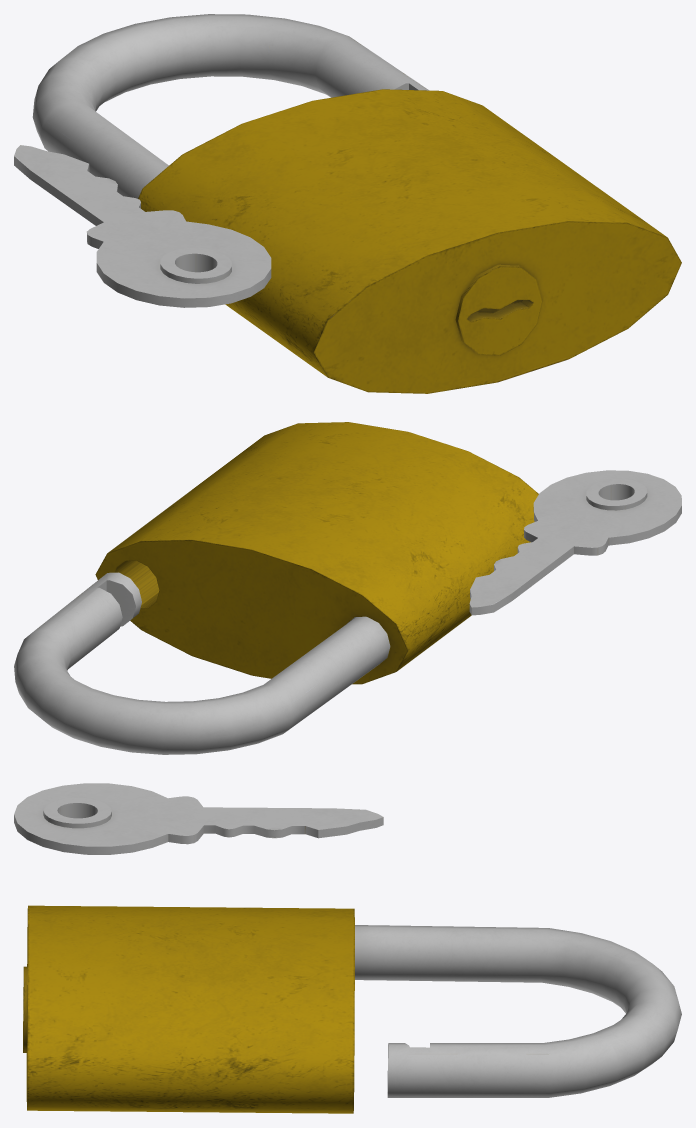
The model's file is GenericProp-Padlock.fbx.
The picture shows the model from 3 angles, top to bottom: view 1: azimuth 30°, elevation 25°; view 2: azimuth 150°, elevation 25°; view 3: azimuth 270°, elevation 25°; orthographic projection. The views are drawn at different scales.
Visible parts, largest first — view 1: Padlock; view 2: Padlock; view 3: Padlock.
Part boxes in pixels (bbox=[...]): Padlock: bbox=[14, 14, 681, 393]; Padlock: bbox=[14, 422, 681, 754]; Padlock: bbox=[14, 783, 681, 1113].
Size of the model in its own units: 18.13 by 5.49 by 22.34.
